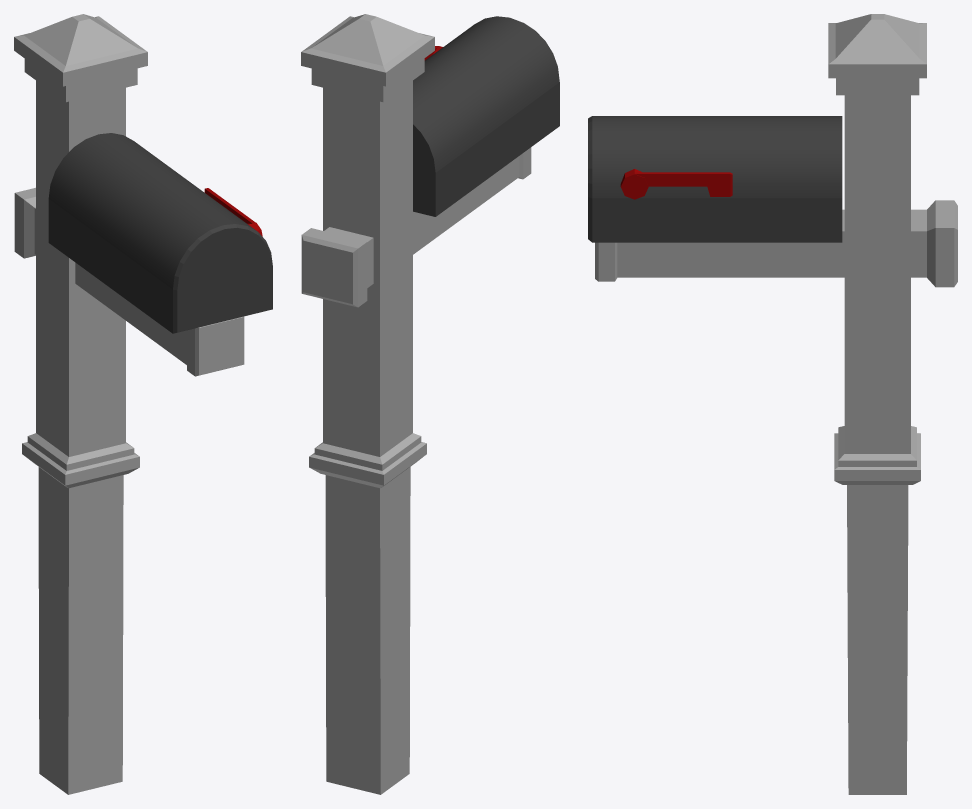
File: Proto_Mailbox_01.fbx
3 renders of one model, left to right at view 1: azimuth 30°, elevation 25°; view 2: azimuth 150°, elevation 25°; view 3: azimuth 270°, elevation 25°, orthographic.
Parts seen in each view (by area): view 1: Proto_Mailbox_01; view 2: Proto_Mailbox_01; view 3: Proto_Mailbox_01.
Boxes of the visible parts, left/top/right/bottom form: Proto_Mailbox_01: left=14, top=14, right=272, bottom=794; Proto_Mailbox_01: left=301, top=14, right=559, bottom=794; Proto_Mailbox_01: left=588, top=14, right=957, bottom=794.
Size of the model in its own units: 2.1 by 14.53 by 6.37.
